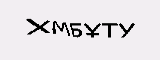Б: (68, 22, 84, 38)
М: (51, 21, 71, 36)
Т: (98, 20, 118, 39)
У: (116, 21, 136, 40)
Х: (24, 17, 51, 35)
Ұ: (84, 22, 101, 39)
